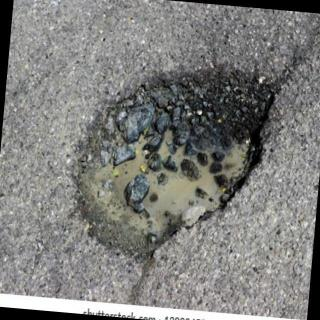pothole: (70, 64, 278, 263)
